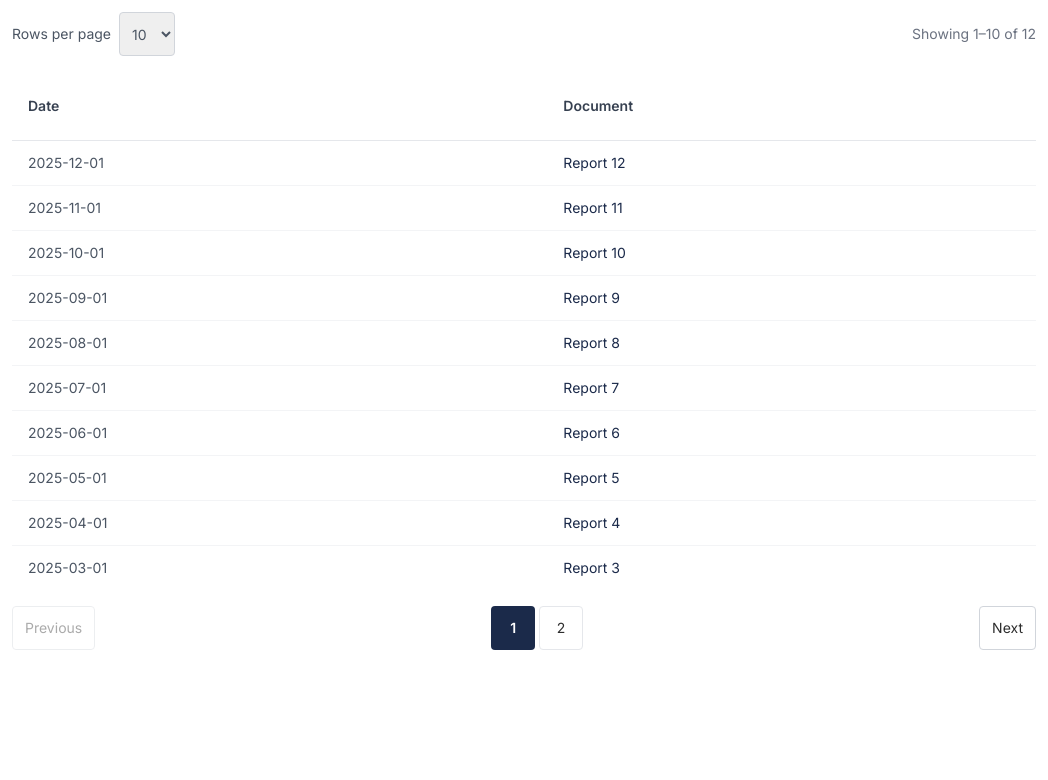
Test: ReportsTable › paginates rows and navigates forward/back
Expected: the text "Showing 1–10 of 12" is shown, [912, 24, 1036, 44]
Expected: the button "Previous" is disabled, [12, 606, 95, 650]
# Next page shows the remaining rows and enables Previous.
Click the button "Next". click: [1008, 628]
box: [979, 606, 1036, 650]
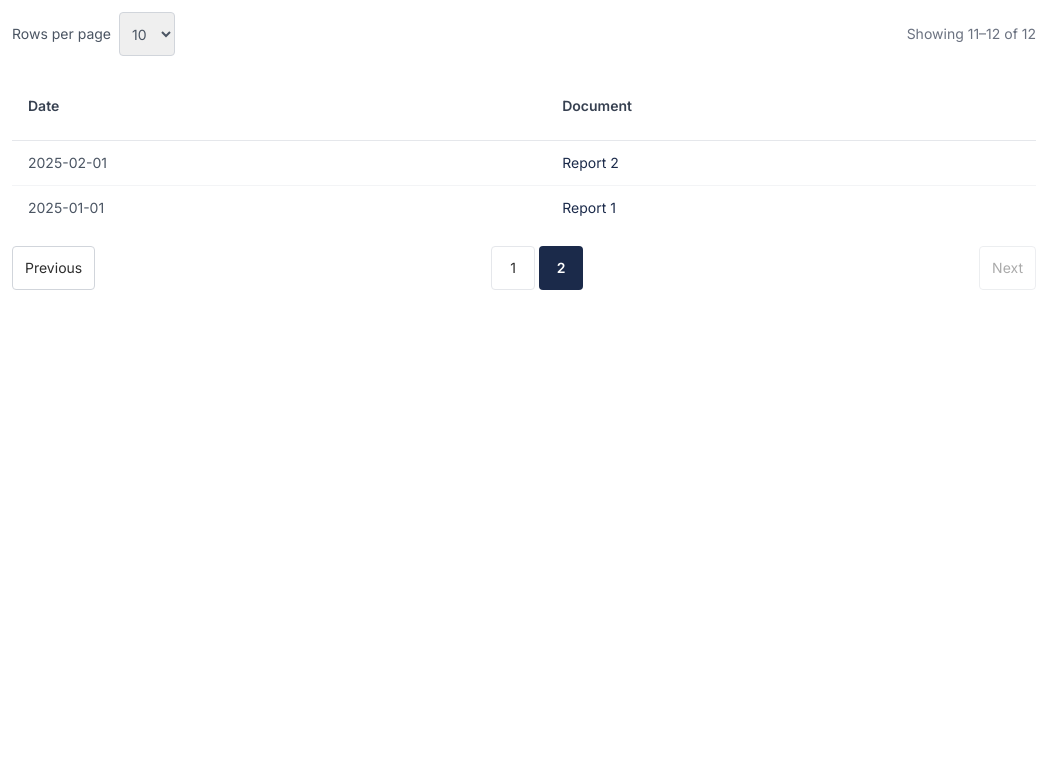
Now the number of links is 2, box [562, 154, 619, 171]; [562, 199, 616, 216]
Now the text "Showing 11–12 of 12" is shown, box [907, 24, 1036, 44]
Now the button "Previous" is enabled
# And back.
Click the button "Previous". click: [54, 268]
box: [12, 246, 95, 290]
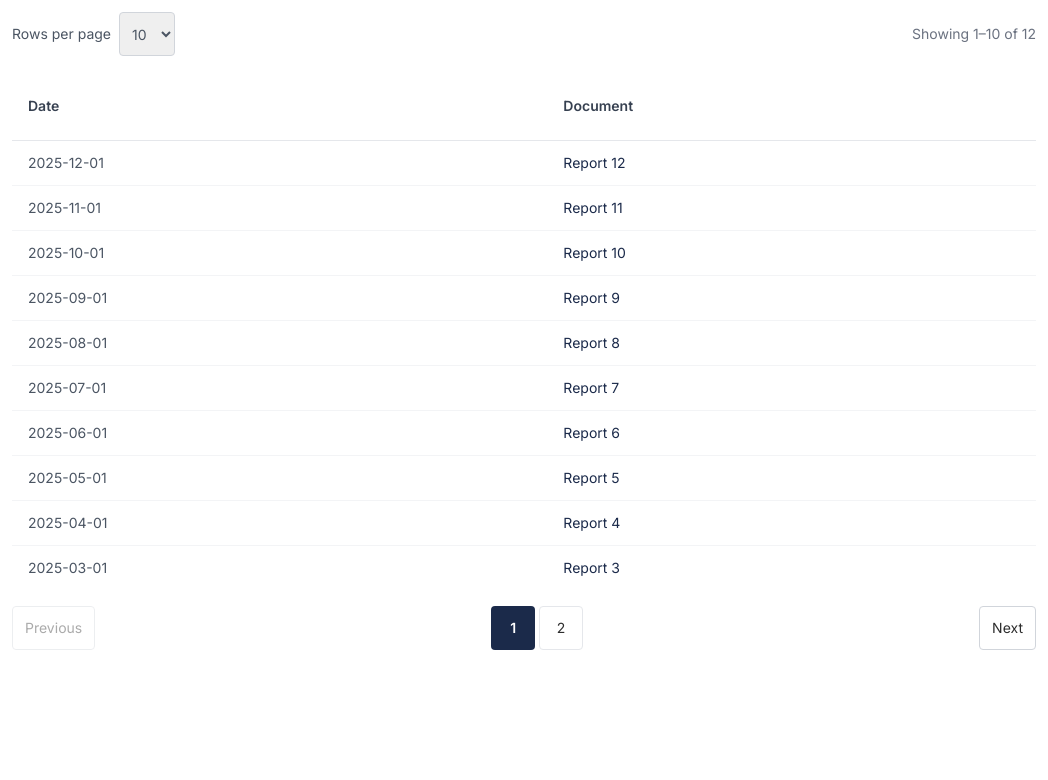
Now the text "Showing 1–10 of 12" is shown, box [912, 24, 1036, 44]
